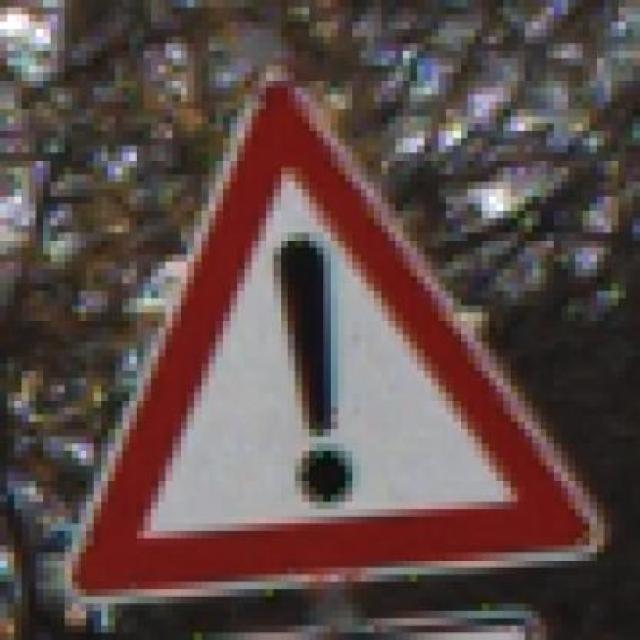Attention Please-: (72, 73, 582, 604)
